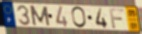3: (16, 4, 32, 27)
4: (55, 5, 69, 29), (95, 7, 109, 30)
F: (108, 8, 125, 30)
M: (29, 5, 52, 27)
O: (70, 5, 88, 29)
